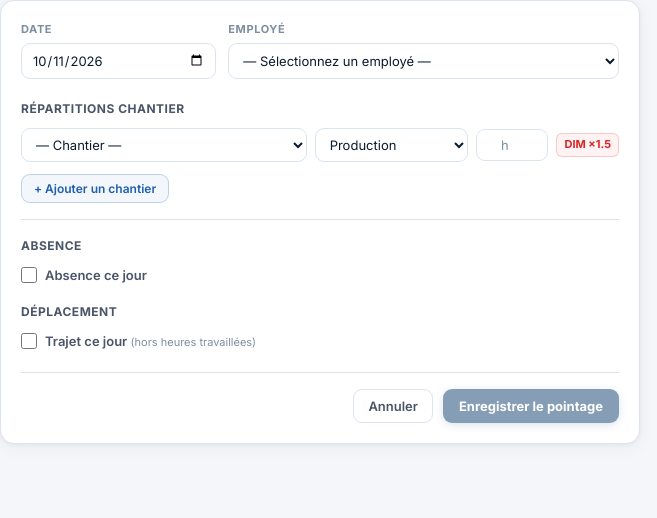
Test: PointageFormulaire — mode édition auto (Q2) › pointage existant pour (date, employé) → indicateur "Modification d'un pointage existant"
Step 1. Select "Jean Dupont" in the 1st dropdown → (424, 61), box [228,43,619,79]
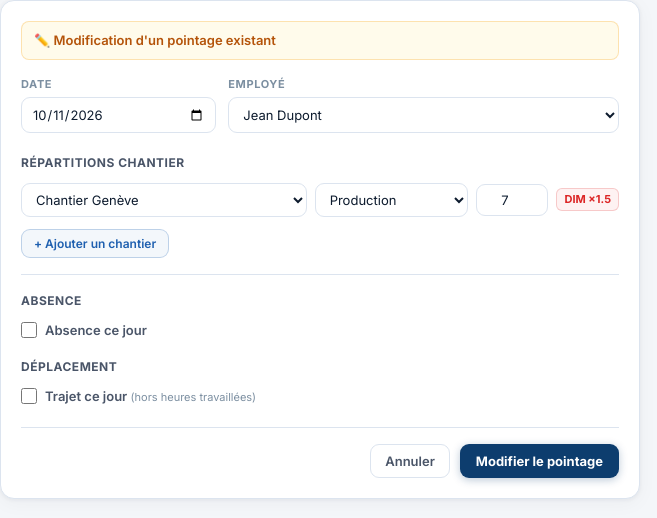
Expected: the text "✏️ Modification d'un pointage existant" is shown, [21,21,619,60]
